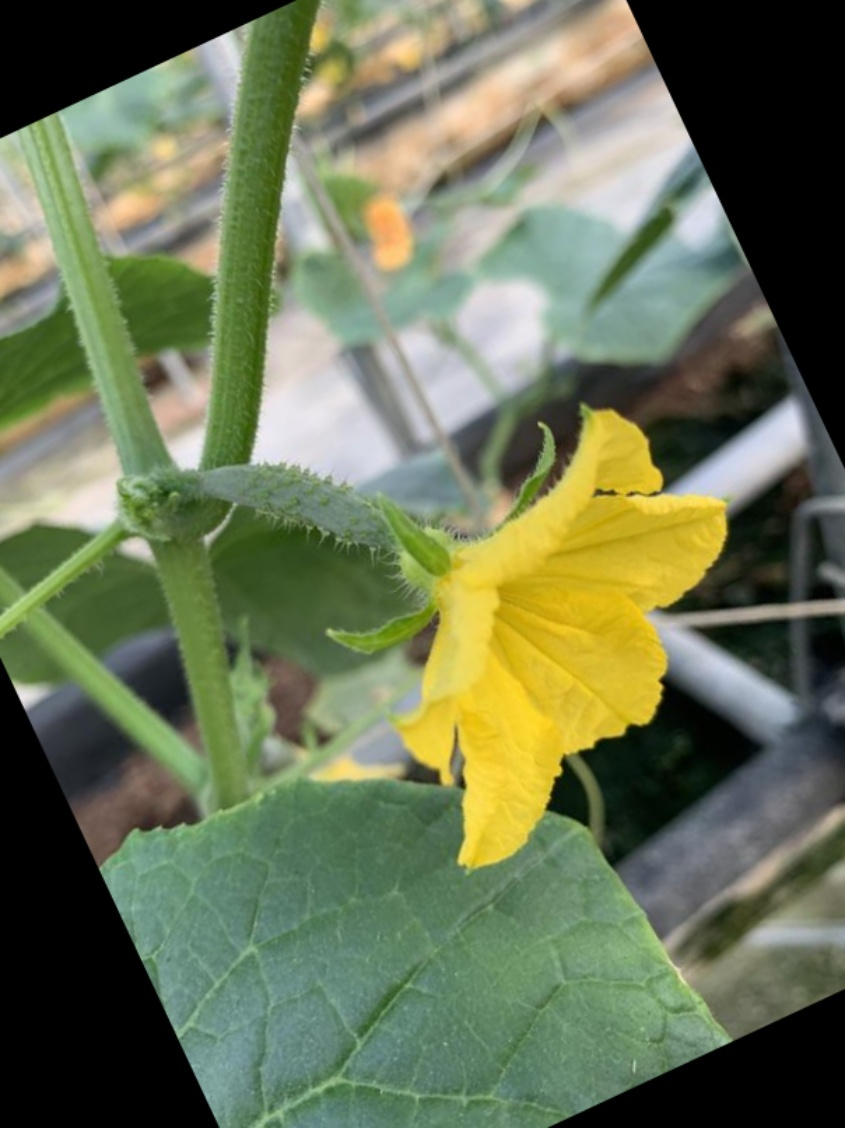flowering: (220, 395, 730, 876)
